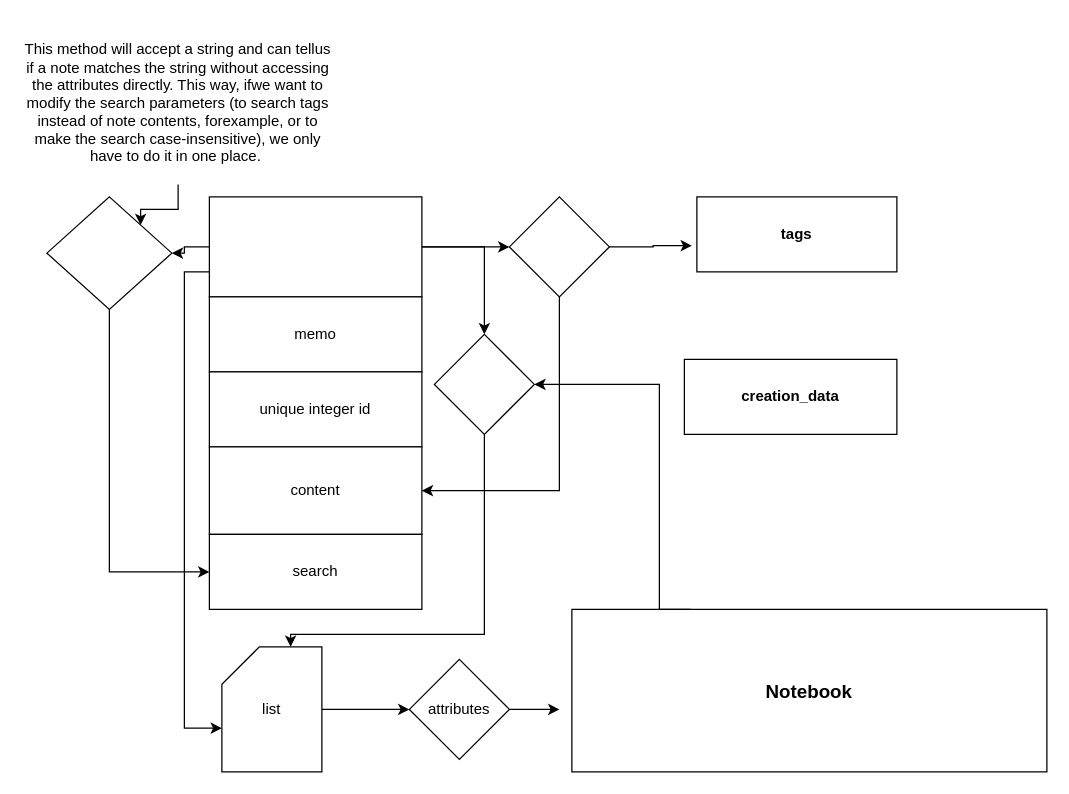
Some shapes in this 1069 by 794 pixel diagram are drawn without their labels. The centre of each missing label's shape, as x and y in pixels:
match method: the point at 109,252
method: the point at 558,246
Note: the point at 315,246
Search method: the point at 483,383
